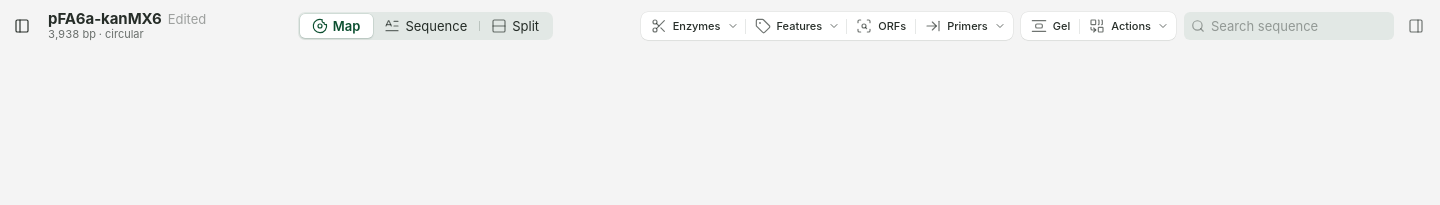
Scenario: ToolbarContent › shows shortcut hints, which the app can override
Note: defaults: the app-integration bindings (⌥⌘S sidebar, ⌘1-3 views)
Press Tab
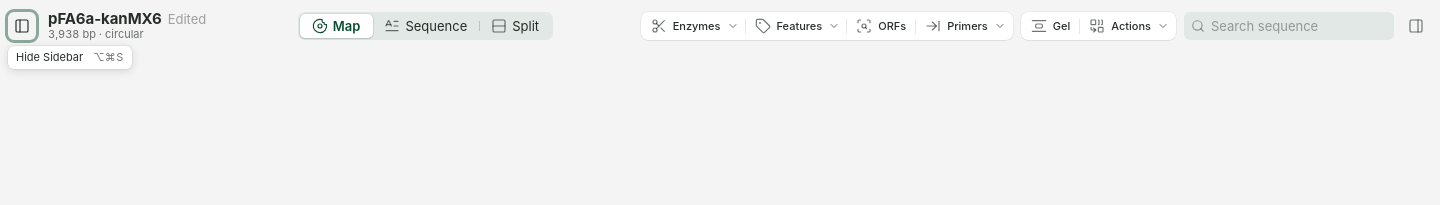
expect the text "⌥⌘S" is shown: met, box x1=93 y1=50 x2=124 y2=65
Press Tab
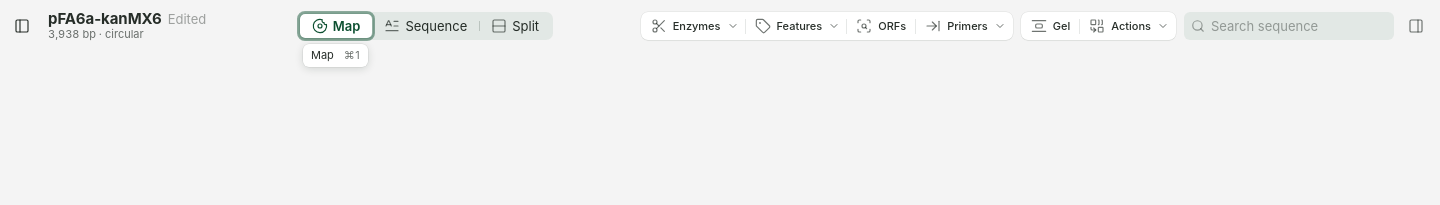
expect the text "⌘1" is shown: met, box x1=344 y1=48 x2=360 y2=63
Note: overridden: the Digest command's binding
Click the button "Actions".
click(1128, 26)  # box x1=1081 y1=14 x2=1174 y2=38
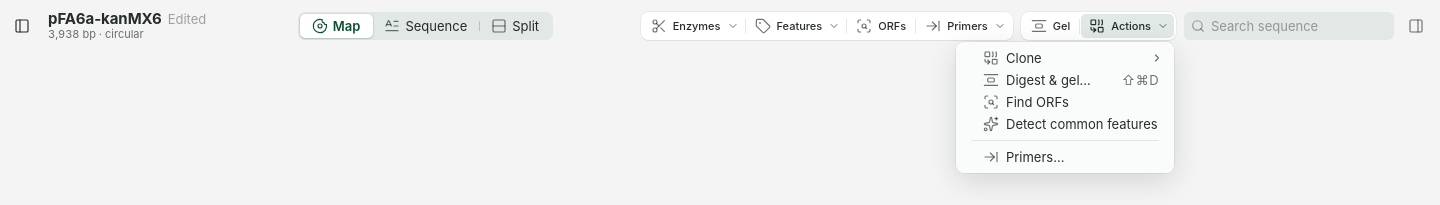
expect the menu item "Digest & gel… ⇧⌘D" is shown: met, box x1=983 y1=72 x2=1159 y2=88
